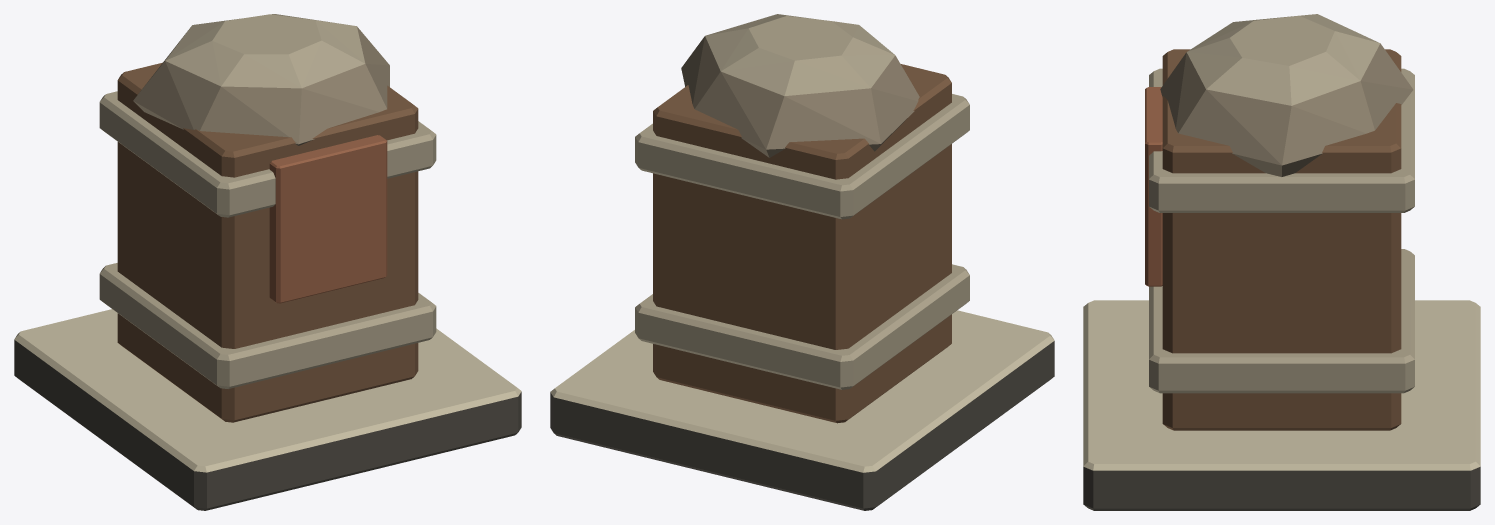
Rendered from pillar-broken.glb.
3 renders of one model, left to right at view 1: azimuth 30°, elevation 25°; view 2: azimuth 150°, elevation 25°; view 3: azimuth 270°, elevation 25°, orthographic. The views are drawn at different scales.
Parts seen in each view (by area): view 1: pillar-broken__body; view 2: pillar-broken__body; view 3: pillar-broken__body.
Part boxes in pixels (left/top/right/bottom): pillar-broken__body: left=14, top=14, right=521, bottom=510; pillar-broken__body: left=550, top=14, right=1054, bottom=510; pillar-broken__body: left=1083, top=14, right=1480, bottom=510.
Size of the model in its own units: 1 by 1.08 by 1.
